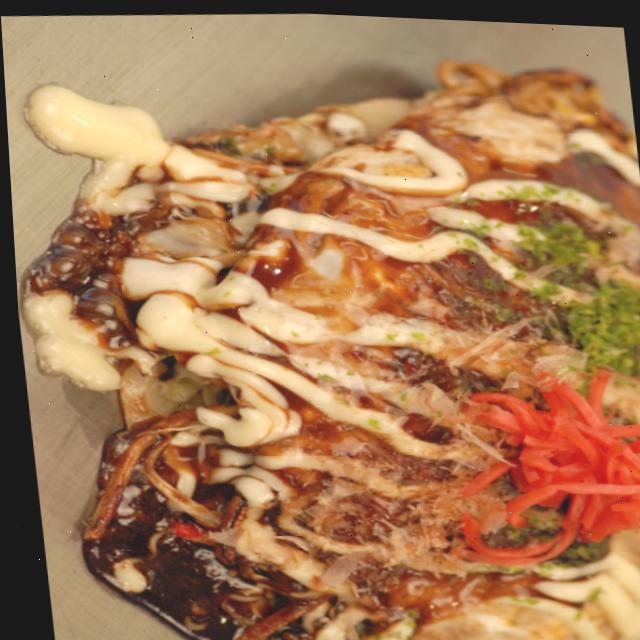蛋糕甜品: (1, 22, 640, 640)
